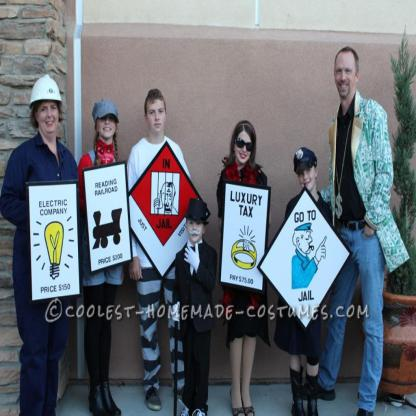face: (336, 57, 356, 97), (39, 99, 59, 132), (100, 110, 117, 138), (299, 163, 316, 190), (149, 104, 165, 132), (236, 137, 252, 163), (188, 216, 204, 240)
